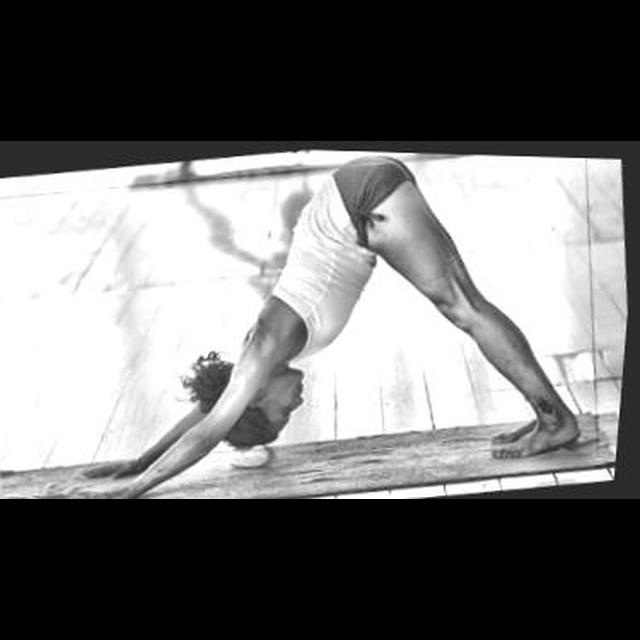Downward-Facing_Dog: (65, 145, 589, 500)
